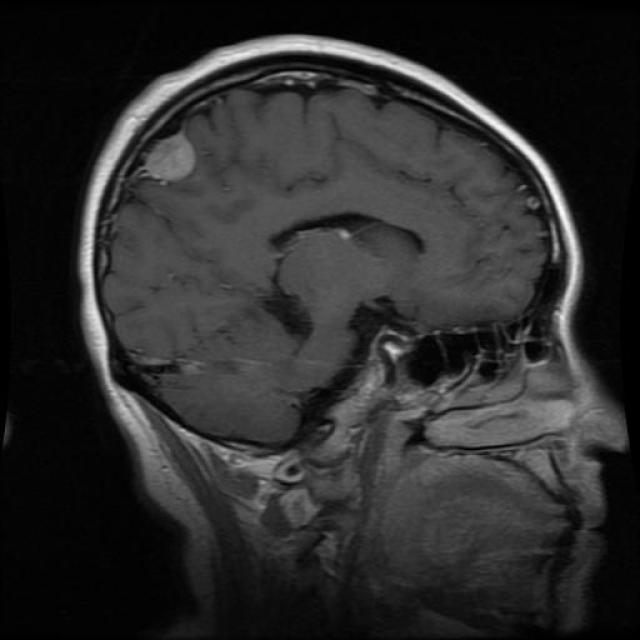meningioma: (136, 130, 220, 184)
